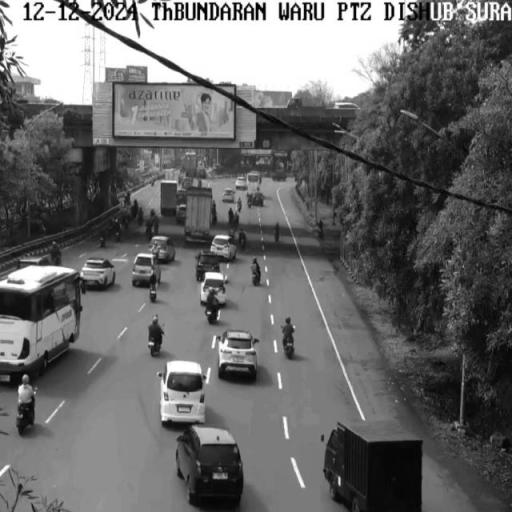bus: (0, 263, 79, 384)
car: (174, 425, 243, 507), (157, 361, 208, 425), (217, 329, 257, 384), (81, 257, 114, 290), (200, 274, 228, 306), (210, 234, 239, 263), (134, 256, 158, 287), (149, 236, 174, 260)
motorcycle: (15, 397, 41, 437), (146, 324, 167, 355), (281, 335, 301, 359), (206, 302, 219, 324), (145, 284, 160, 302), (250, 265, 262, 287)
truck: (321, 420, 423, 512), (188, 187, 210, 245)
